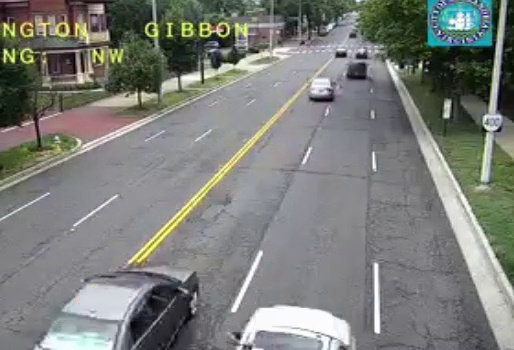car: (34, 266, 199, 350), (308, 78, 334, 100), (347, 62, 368, 80)
